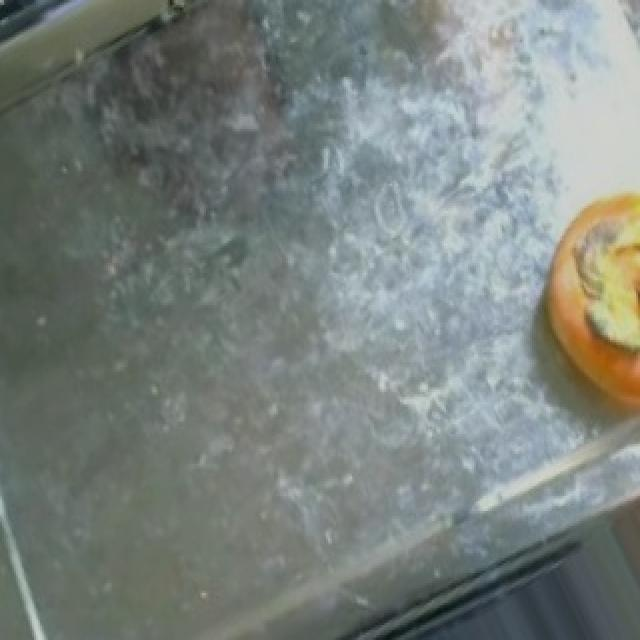Fruit: (0, 0, 208, 77), (594, 446, 640, 640)
